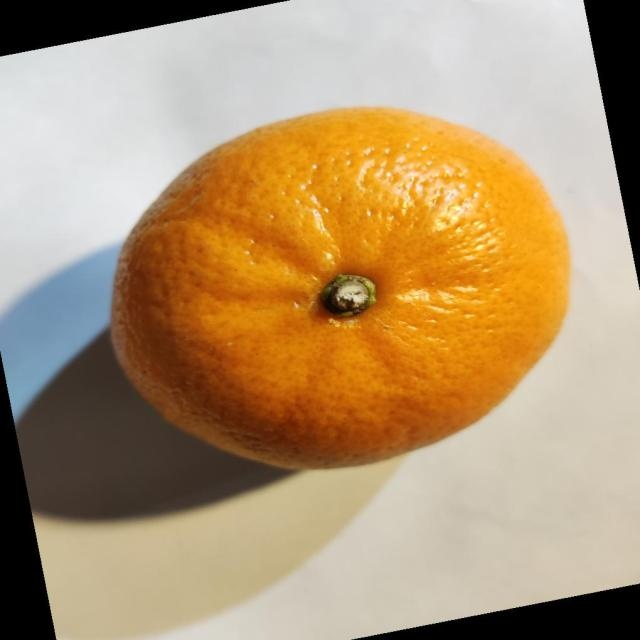agrume: (109, 104, 571, 472)
